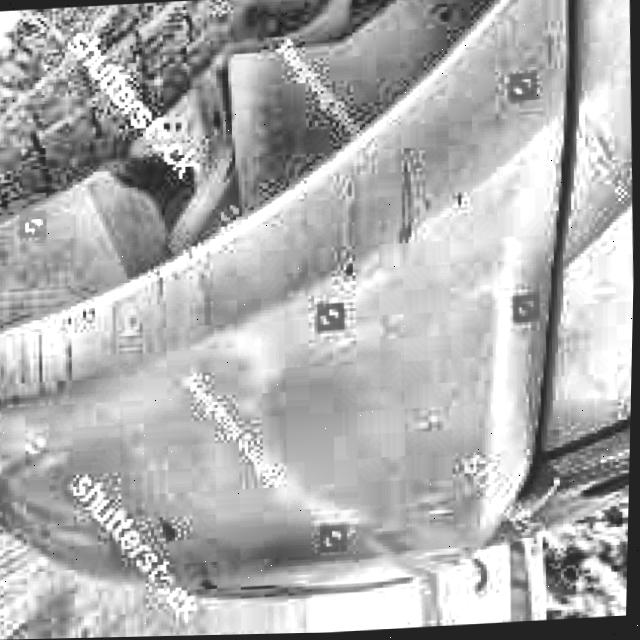bumper_scratch: (321, 133, 469, 291)
